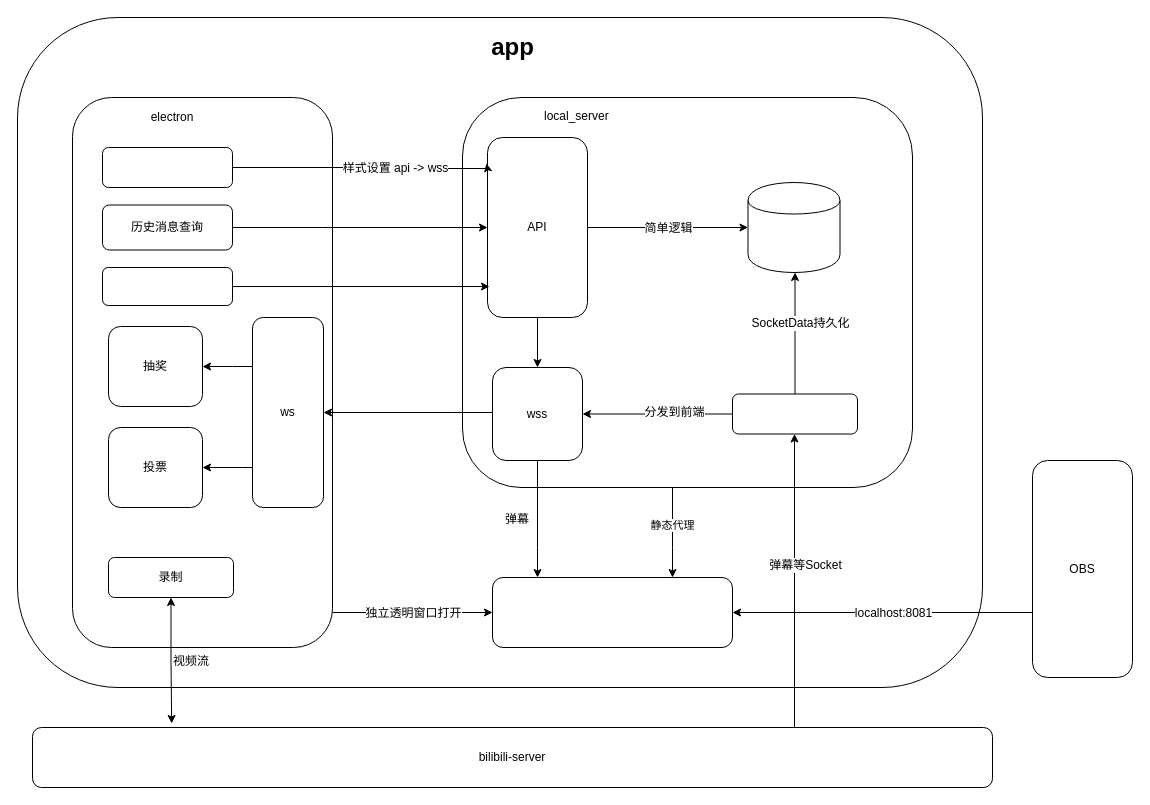
Some shapes in this 1150 by 805 pixel diagram are drawn without their labels. The box of each missing label's shape, as (x1, y1, x2, y2) in pixels:
bilibili-ws: (732, 393, 858, 434)
local_db: (747, 182, 840, 272)
弹幕页: (492, 576, 732, 648)
样式设置: (102, 146, 232, 188)
统计: (102, 266, 232, 306)
